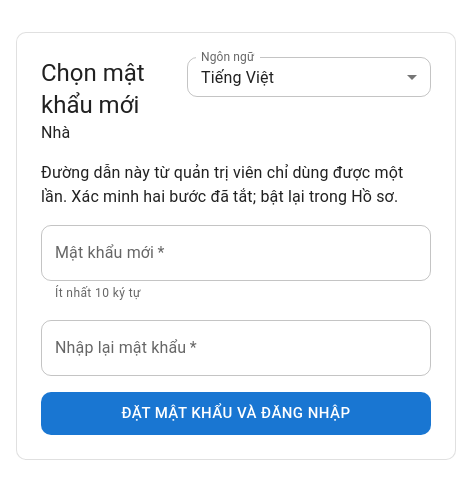
Test: a reset link › opens in the language this browser remembers, with the dropdown to change it
Step 1. Click the dropdown named "Ngôn ngữ" → (238, 77), box [201,68,274,87]
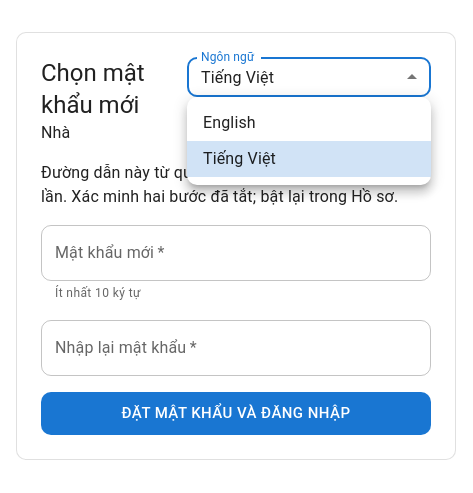
Step 2. Click the option "English" → (229, 122), box [203,113,256,132]
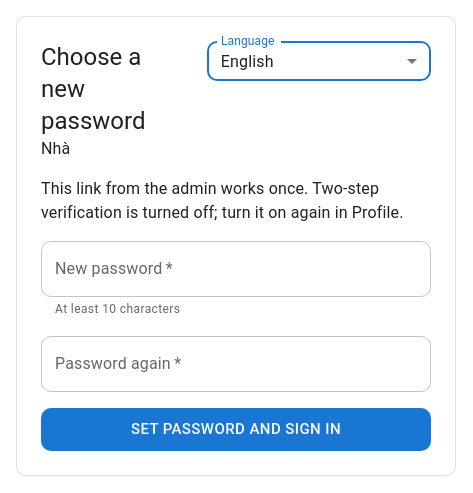
Check: the dropdown named "Language" reads "English", box [221,52,274,71]
